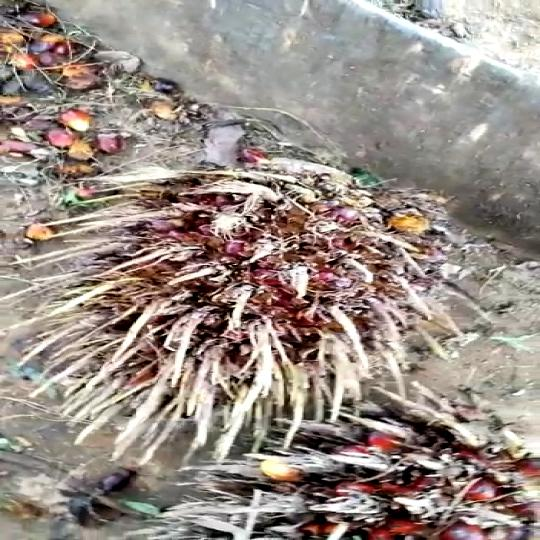terlalu masak: (0, 144, 498, 478)
